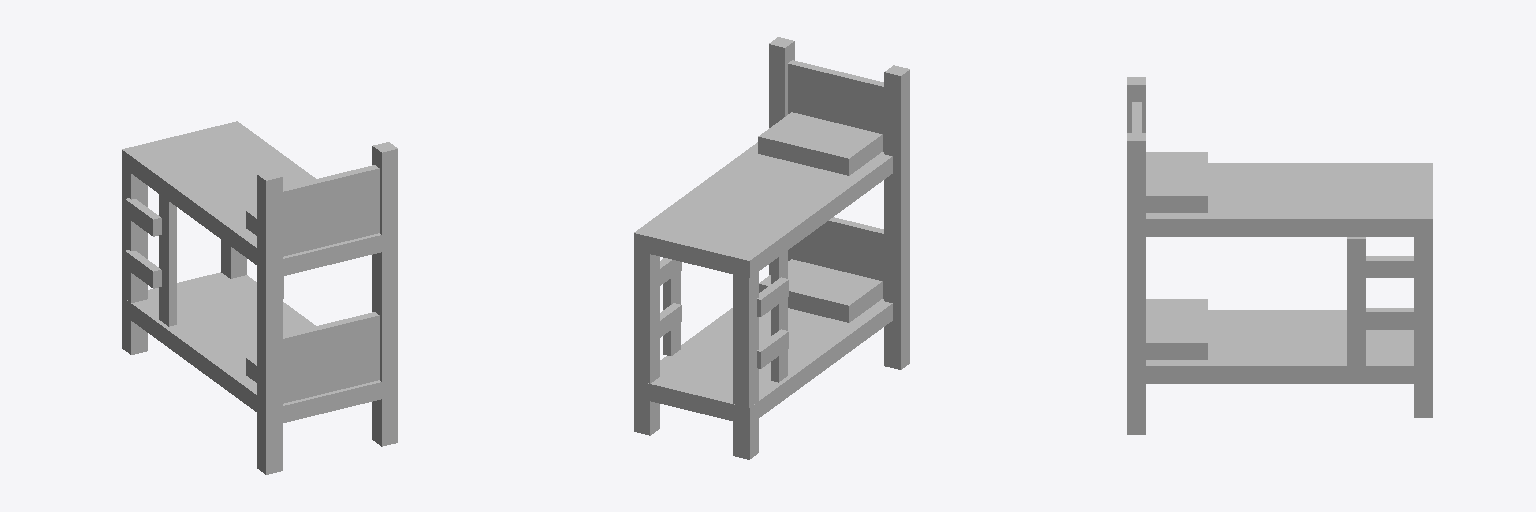
Rendered from cama_beliche.obj.
The picture shows the model from 3 angles: view 1: azimuth 30°, elevation 25°; view 2: azimuth 150°, elevation 25°; view 3: azimuth 270°, elevation 25°; orthographic projection.
Visible parts, largest first — view 1: Block1; view 2: Block1; view 3: Block1.
Boxes of the visible parts, x1,y1,x2,y2 form: Block1: [122, 121, 397, 474]; Block1: [634, 37, 909, 459]; Block1: [1127, 77, 1432, 434].
Size of the model in its own units: 1 by 2.12 by 2.